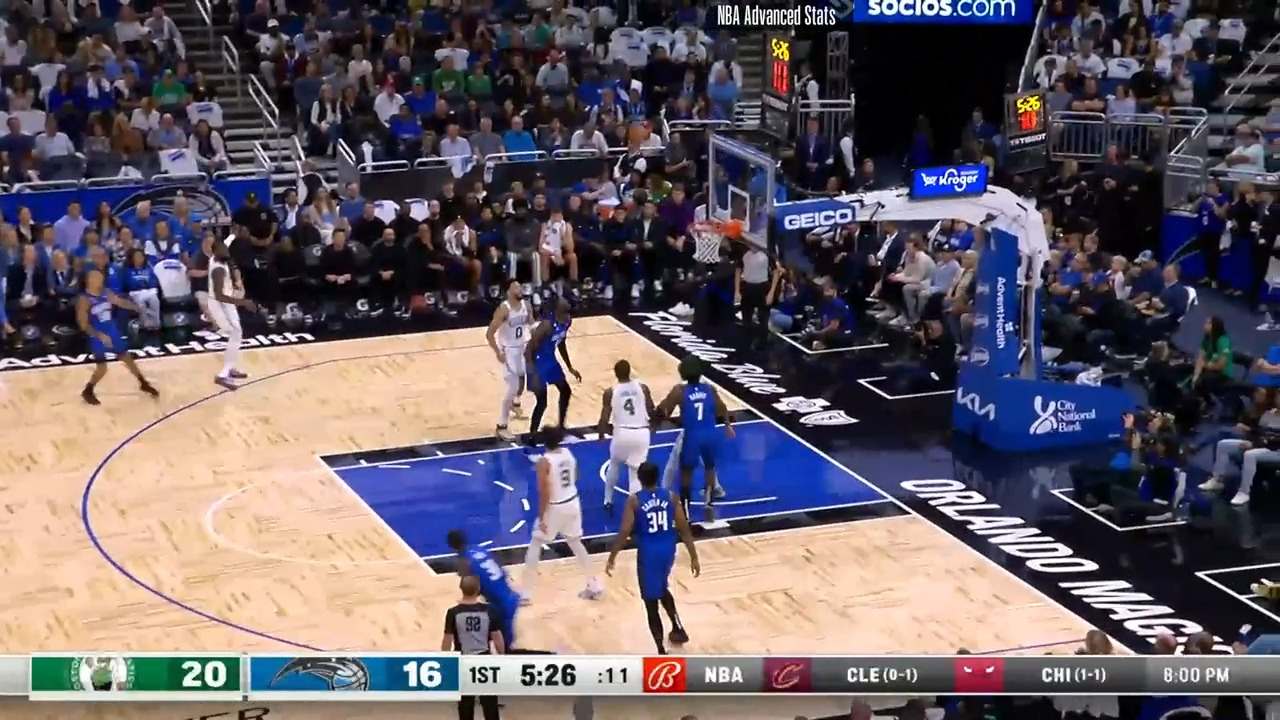net: (684, 212, 745, 263)
player: (606, 457, 704, 655), (511, 425, 610, 608), (652, 354, 737, 527), (77, 266, 166, 405), (588, 353, 658, 524), (518, 295, 588, 444), (442, 532, 522, 649), (488, 271, 545, 434), (203, 233, 259, 393)
referee: (433, 568, 515, 719), (725, 235, 780, 369)
